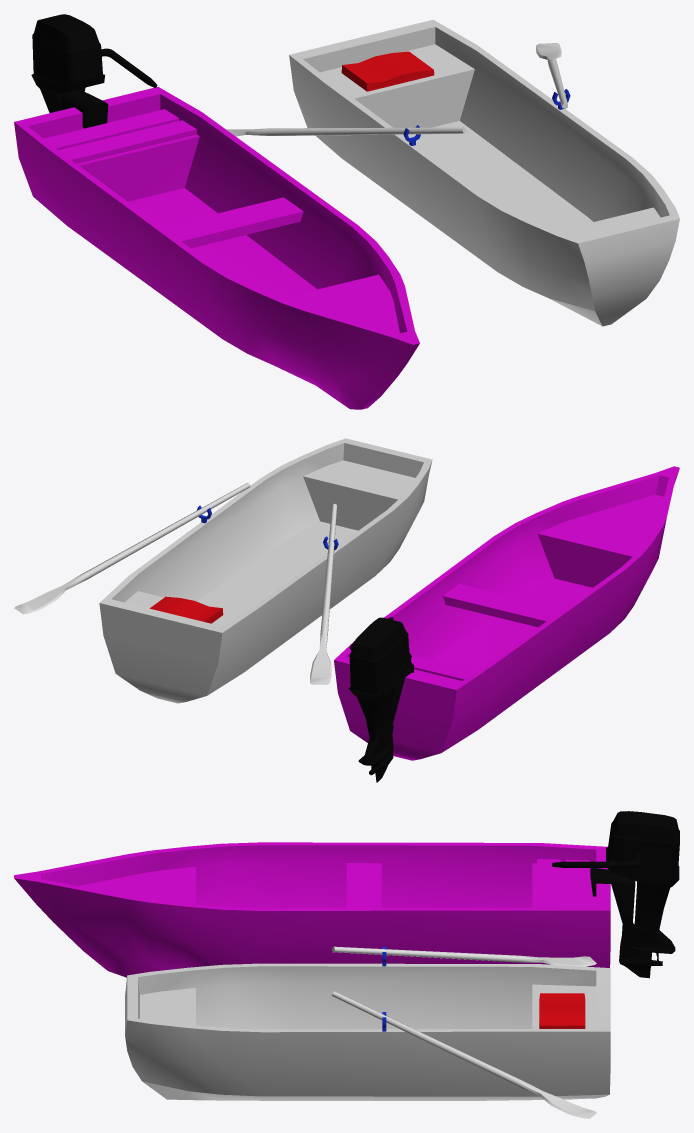
Rendered from cv_smallboat.fbx.
3 renders of one model, top to bottom at view 1: azimuth 30°, elevation 25°; view 2: azimuth 150°, elevation 25°; view 3: azimuth 270°, elevation 25°, orthographic. The views are drawn at different scales.
Parts seen in each view (by area): view 1: Cube, Cube.002, Cube.001; view 2: Cube, Cube.002, Cube.001; view 3: Cube, Cube.002, Cube.001.
Boxes of the visible parts, x1,y1,x2,y2 form: Cube: (14,14,570,409); Cube.002: (289,19,679,326); Cube.001: (226,43,567,136); Cube: (150,466,679,782); Cube.002: (99,438,432,703); Cube.001: (14,482,337,684); Cube: (14,811,679,1031); Cube.002: (125,963,610,1100); Cube.001: (332,946,596,1118).
Size of the model in its own units: 4.23 by 1.34 by 5.04.
